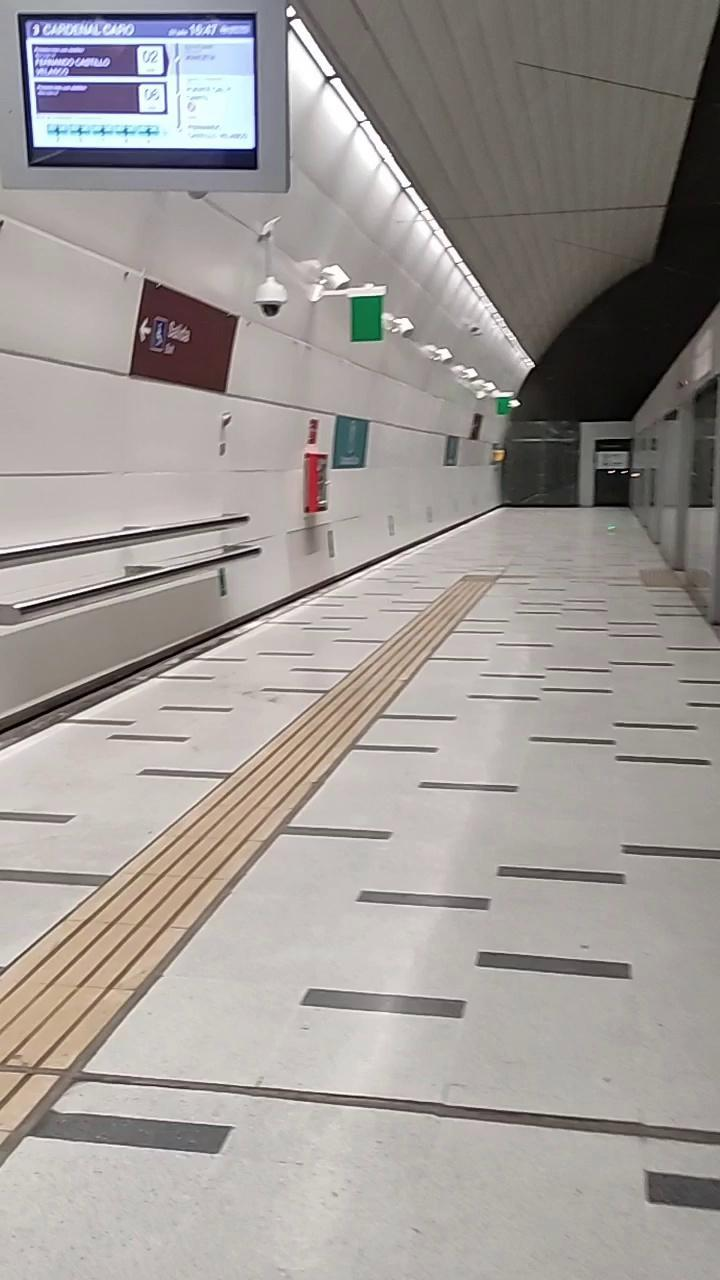handicapped symbol: (156, 322, 164, 348)
left arrow: (138, 317, 152, 345)
